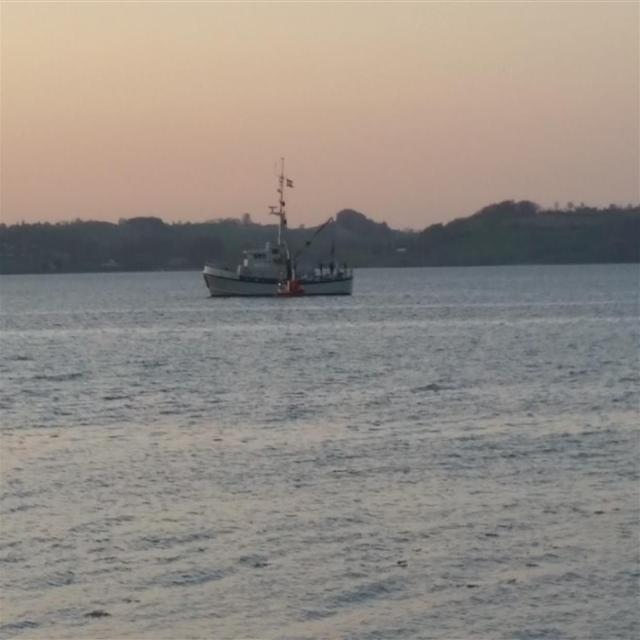fishing boat: (199, 188, 366, 311)
